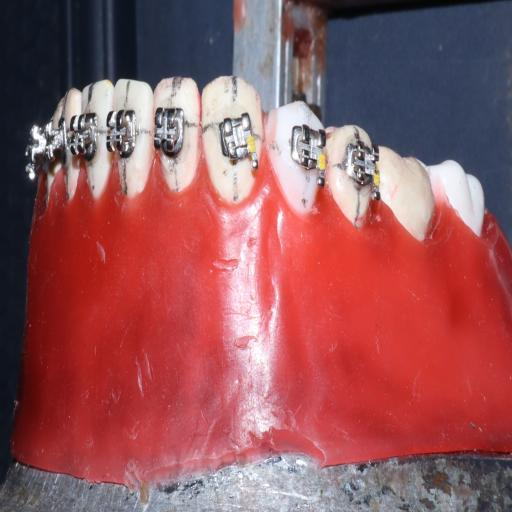incorrect_brace: (217, 110, 260, 179)
